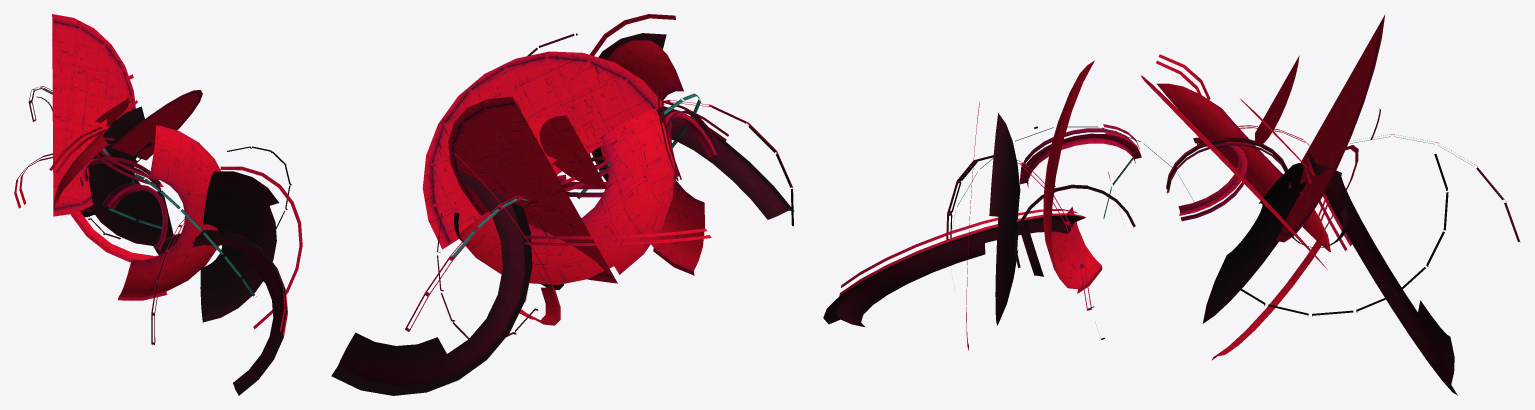
Rendered from MonsterB_Die17.obj.
3 renders of one model, left to right at view 1: azimuth 30°, elevation 25°; view 2: azimuth 150°, elevation 25°; view 3: azimuth 270°, elevation 25°, orthographic. The views are drawn at different scales.
Visible parts, largest first — view 1: Sphere001; view 2: Sphere001; view 3: Sphere001.
Part boxes in pixels (x1,y1,x2,y2): Sphere001: (14,14,302,395); Sphere001: (331,14,794,395); Sphere001: (823,14,1520,395).
Size of the model in its own units: 254 by 253 by 499.
Materials: 1 (1 with a texture image).
